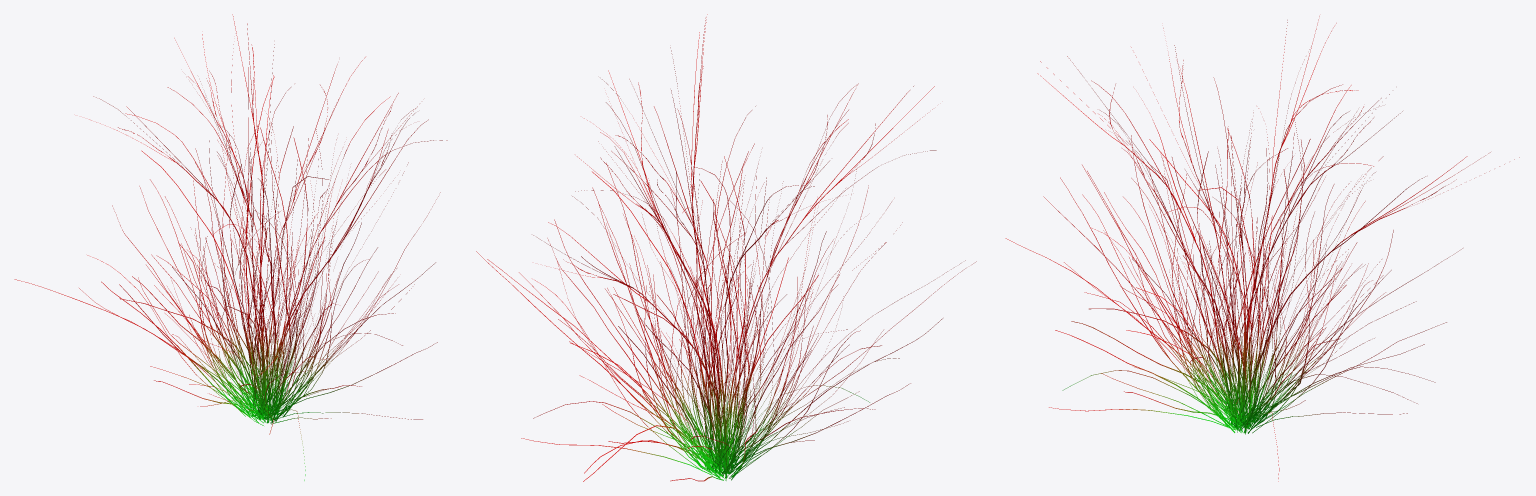
File: Xeric Grass_LOD1_Var8_xjfgdhaqx.fbx
3 renders of one model, left to right at view 1: azimuth 30°, elevation 25°; view 2: azimuth 150°, elevation 25°; view 3: azimuth 270°, elevation 25°, orthographic. The views are drawn at different scales.
Visible parts, largest first — view 1: _4z6k_Var8_LOD1; view 2: _4z6k_Var8_LOD1; view 3: _4z6k_Var8_LOD1.
Part boxes in pixels (x1,y1,x2,y2): _4z6k_Var8_LOD1: [14, 14, 447, 480]; _4z6k_Var8_LOD1: [476, 14, 976, 481]; _4z6k_Var8_LOD1: [1005, 16, 1519, 481].
Size of the model in its own units: 375 by 325 by 421.
